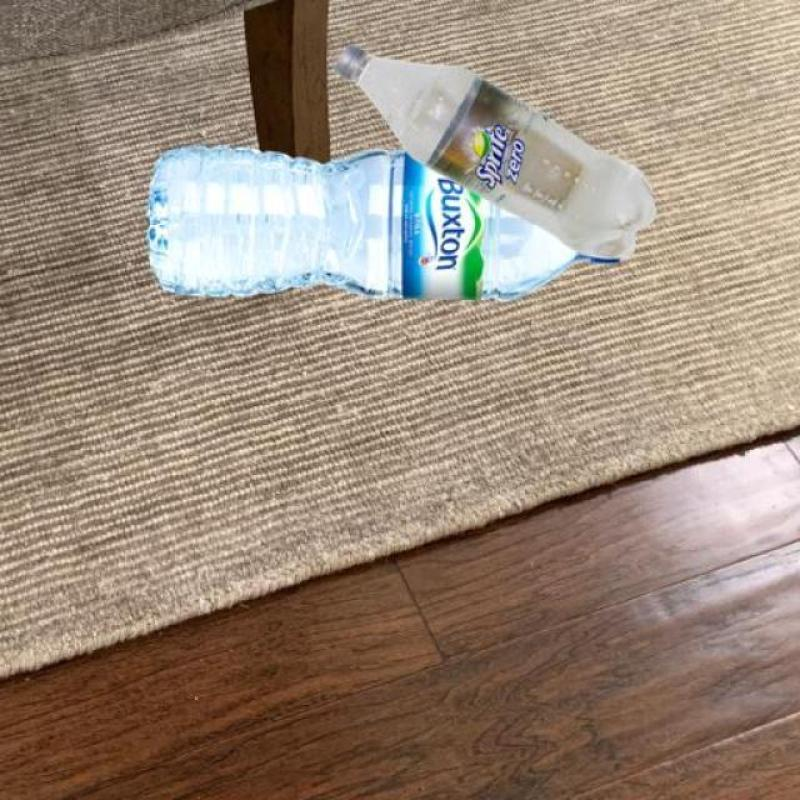botella: (147, 142, 629, 303), (338, 36, 656, 262)
